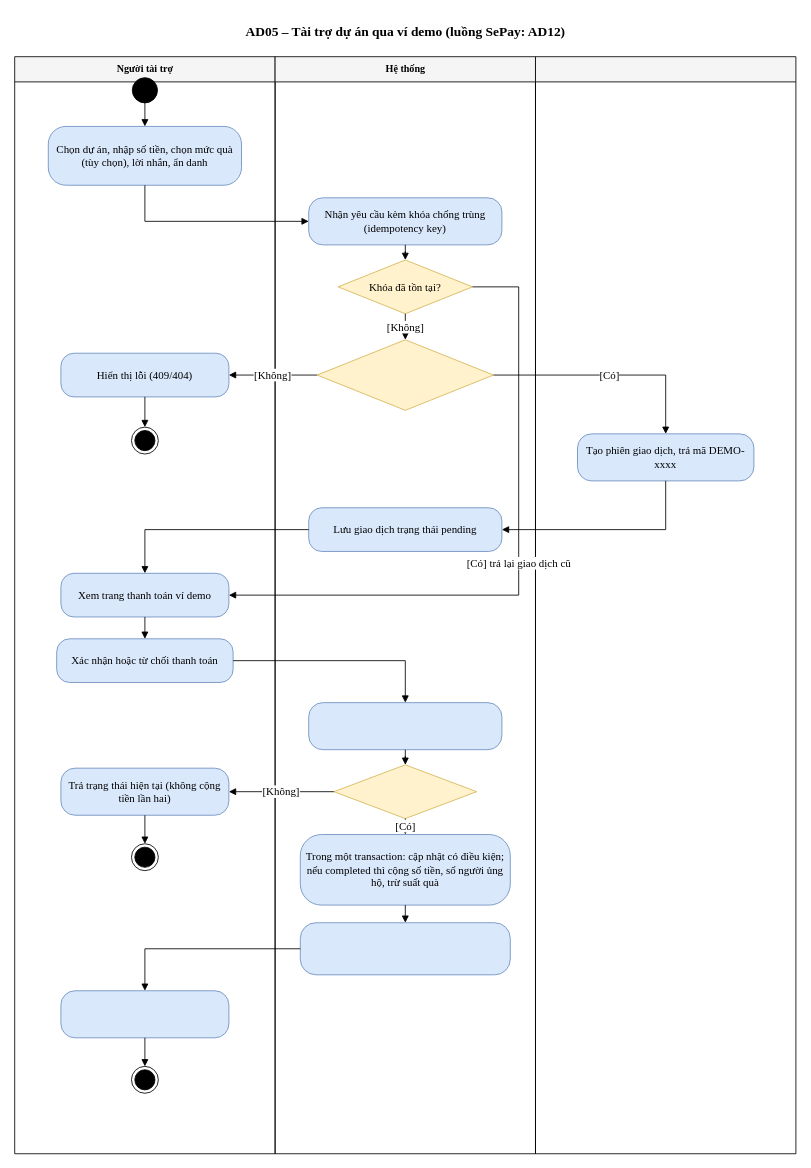
This 811x1168 diagram has some shape labels left out. The box of each missing label's shape, as (x1, y1, x2, y2) in pixels:
Chiến dịch active, chưa hết hạn, mức quà còn suất?: (316, 339, 494, 410)
Cổng thanh toán (ví demo): (535, 56, 796, 1154)
Ghi nhật ký kiểm toán; gửi thông báo cho người tài trợ và chủ dự án: (299, 922, 510, 975)
Giao dịch còn pending?: (333, 764, 477, 819)
Kiểm tra giao dịch thuộc người dùng, cổng ở chế độ demo: (308, 702, 502, 750)
Xem kết quả và biên nhận điện tử: (60, 990, 229, 1038)
